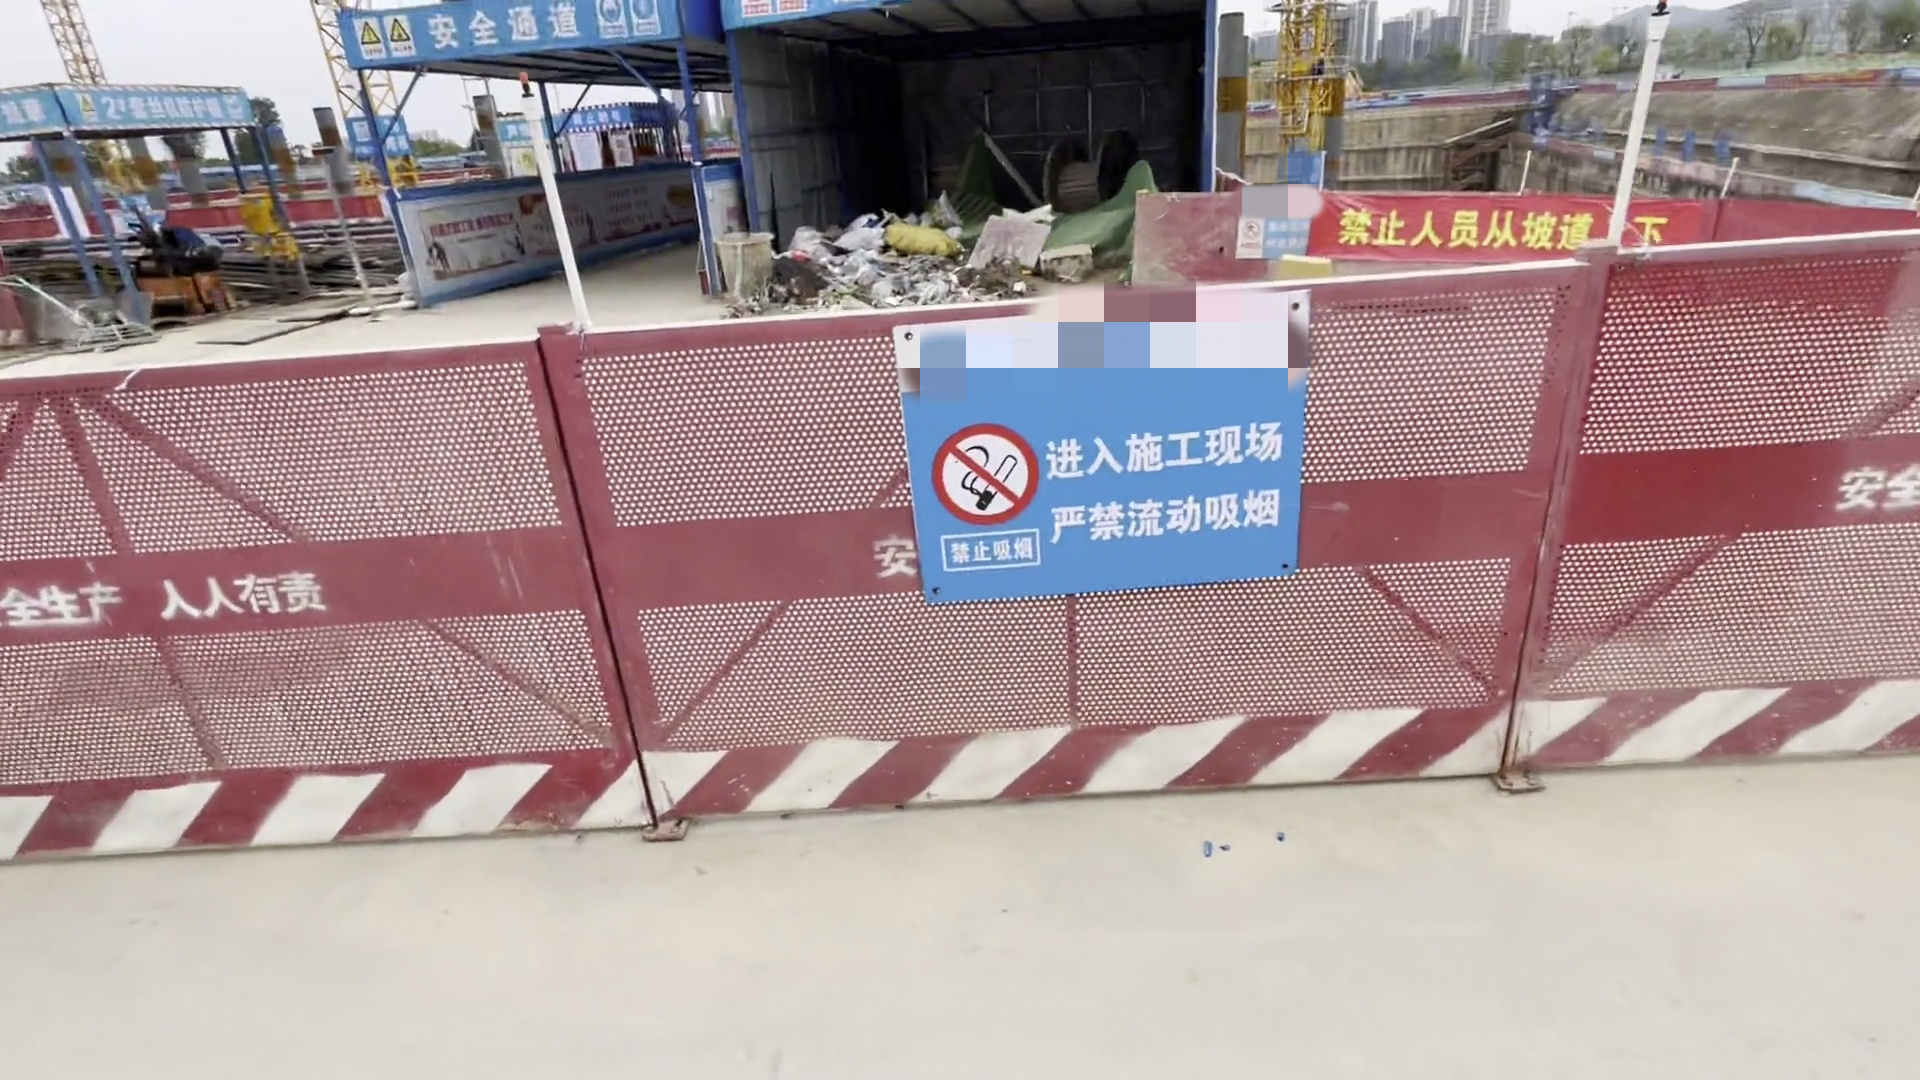fence: (7, 313, 1920, 889)
slogan: (891, 320, 1308, 593), (1304, 194, 1693, 257), (324, 1, 658, 59), (4, 73, 247, 138)
